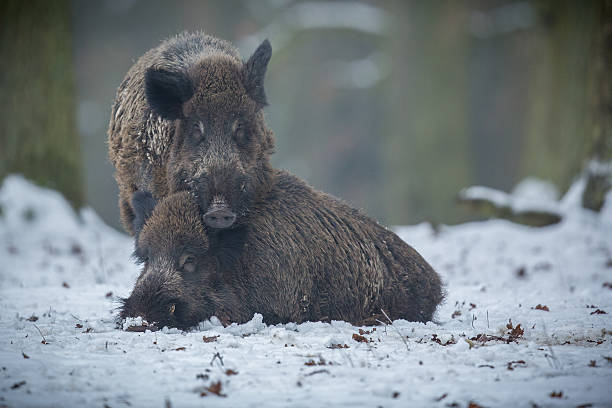pig: (101, 18, 451, 327)
